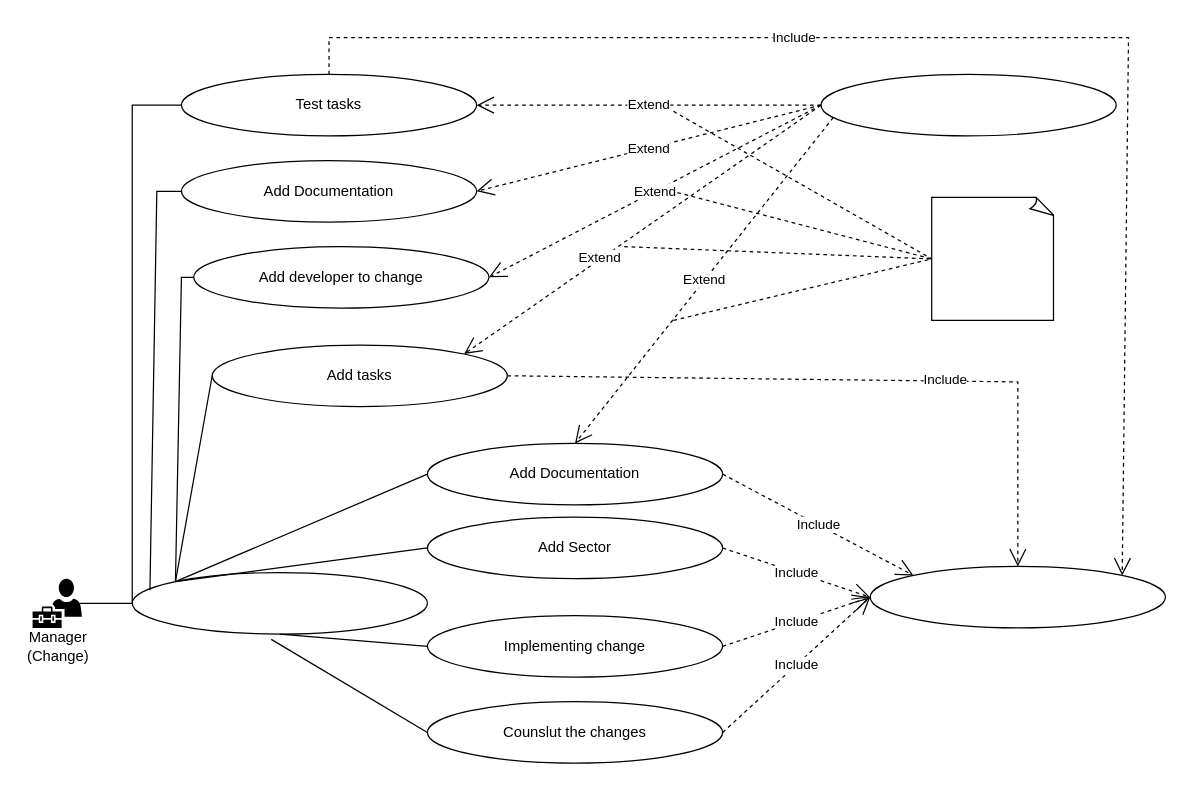
Image size: 1187x785. Some labels were removed from this diagram. Each missing label, with the box of its shape:
Authenticate: (869, 565, 1165, 628)
condition : {Change selected Software} Extension point: selection: (930, 196, 1055, 320)
Get Change Type: (820, 73, 1116, 136)
Manage changes: (131, 571, 427, 634)
